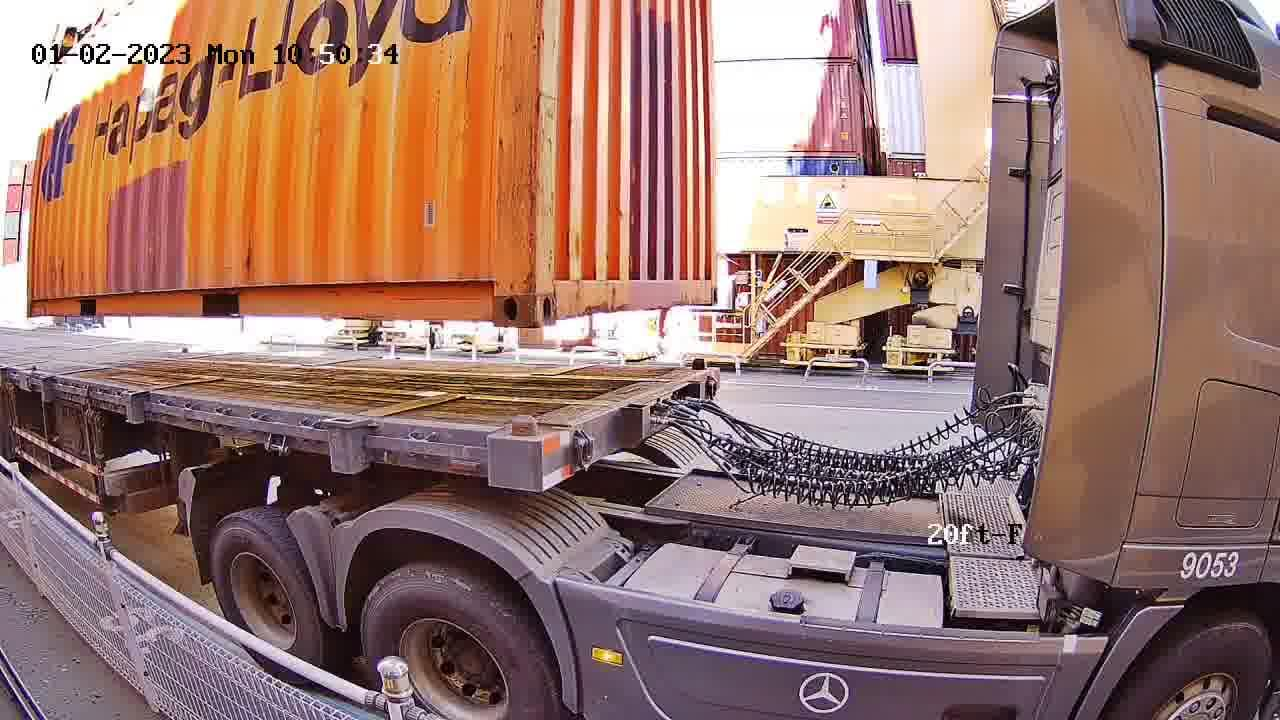Chassis: (491, 367, 718, 488)
Cone: (501, 414, 543, 490), (688, 354, 708, 372)
Hole_L: (534, 253, 583, 328)
Hole_R: (457, 247, 532, 331), (701, 270, 721, 306)
Tire: (359, 571, 553, 719), (209, 518, 321, 684)
